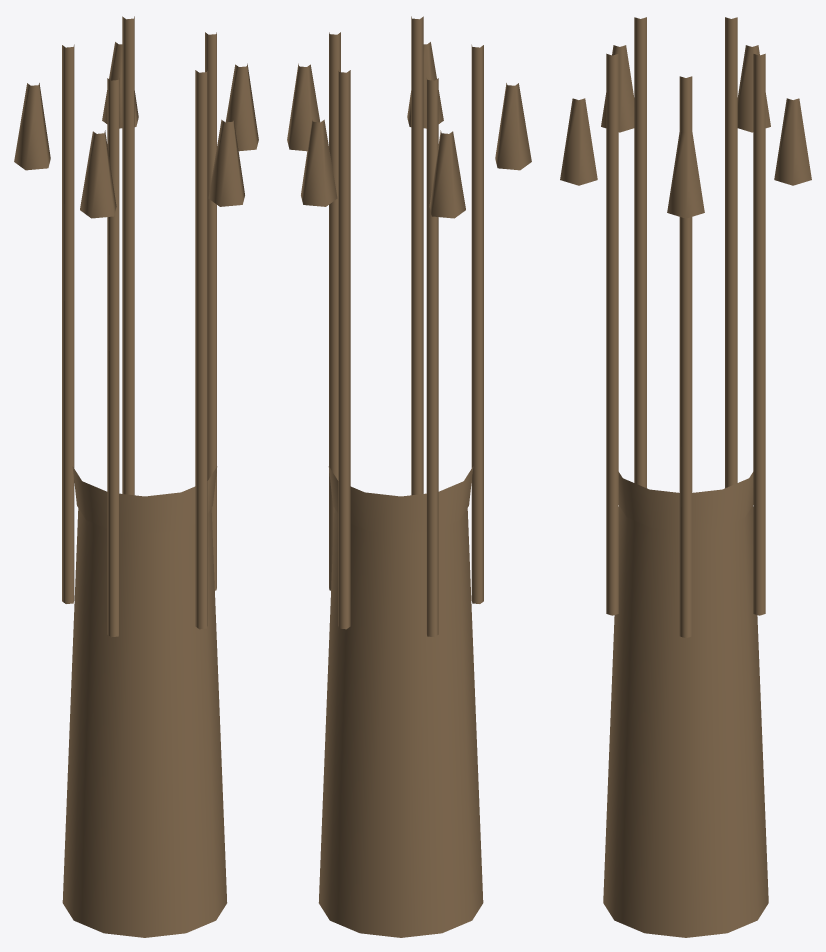
The model's file is shana_quiver.glb.
3 views of the same model, side by side, from view 1: azimuth 30°, elevation 25°; view 2: azimuth 150°, elevation 25°; view 3: azimuth 270°, elevation 25° (orthographic).
Visible parts, largest first — view 1: quiver; view 2: quiver; view 3: quiver.
Part boxes in pixels (x1=…): quiver: x1=14, y1=16, x2=258, y2=937; quiver: x1=287, y1=16, x2=531, y2=937; quiver: x1=560, y1=17, x2=811, y2=937.
Bounding box in the file's own units: 0.2171 × 0.86 × 0.2283.
